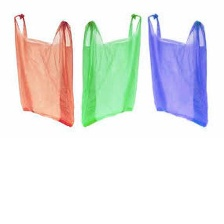plastic_bag: (146, 10, 213, 132), (80, 11, 144, 134), (12, 10, 77, 130)
